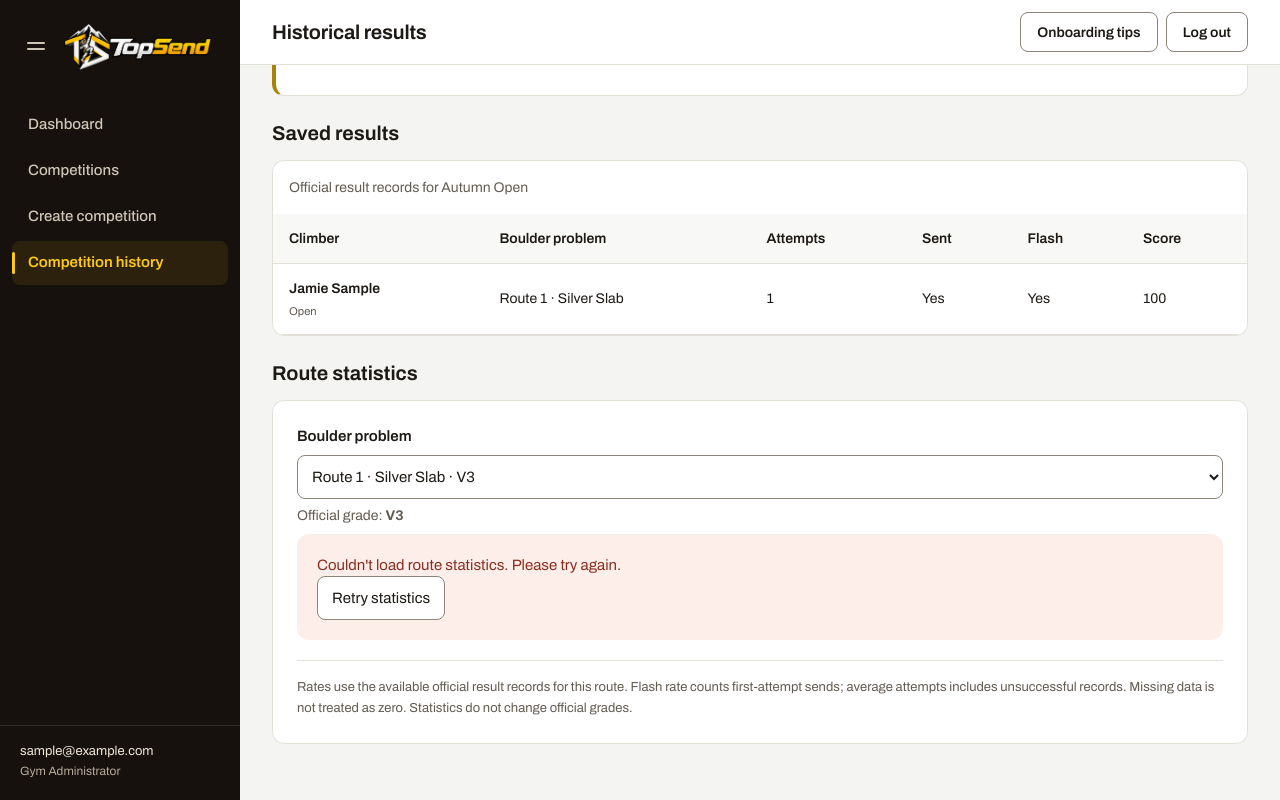
retries a statistics failure without losing saved results
(page scrolled)
Expected: the column heading "Jamie Sample" is shown, [289,281,380,296]
What coordinates should you click on to do the following:
click the button "Retry statistics"
I would click on:
 (381, 598)
Its box is [317,576,445,620].
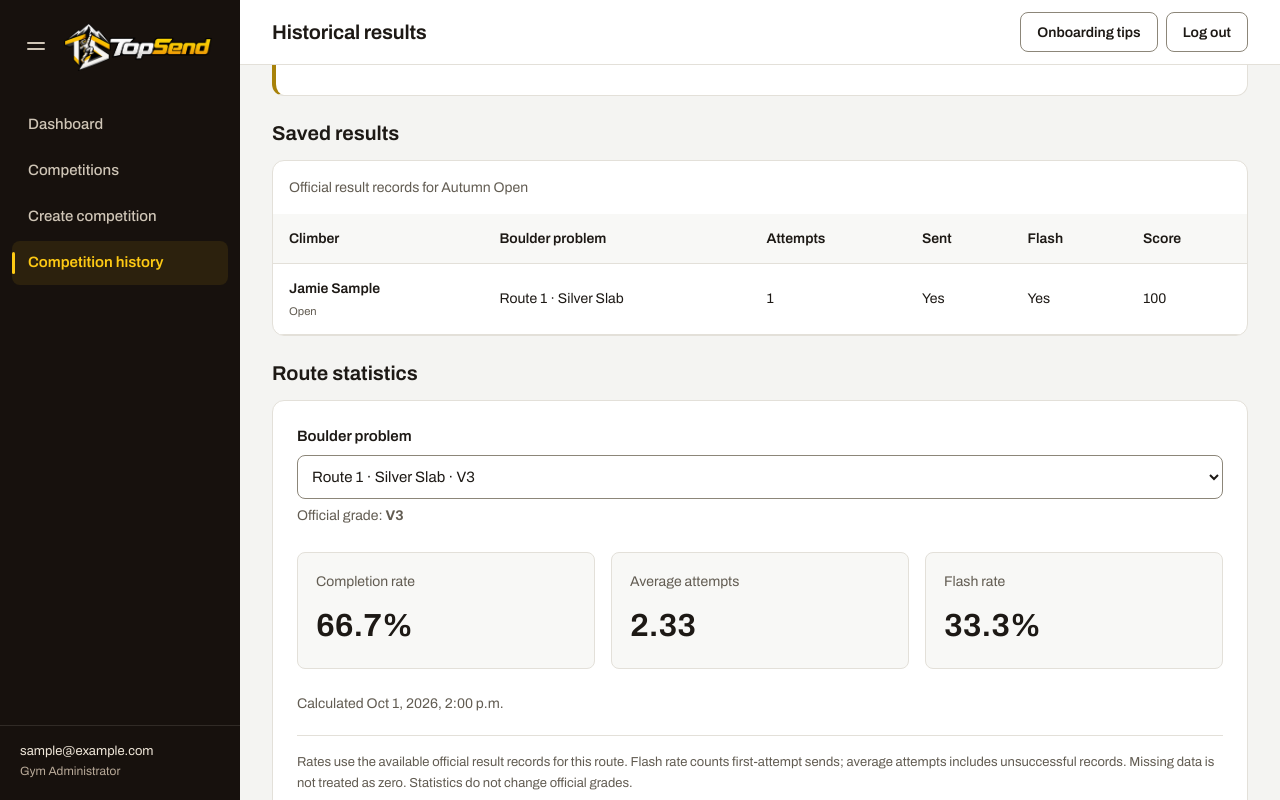
Result: the text "66.7%" is shown at [316,608,413,643]
